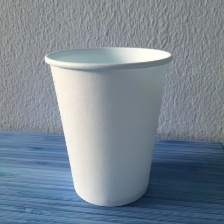paper_cup: (39, 41, 178, 211)
